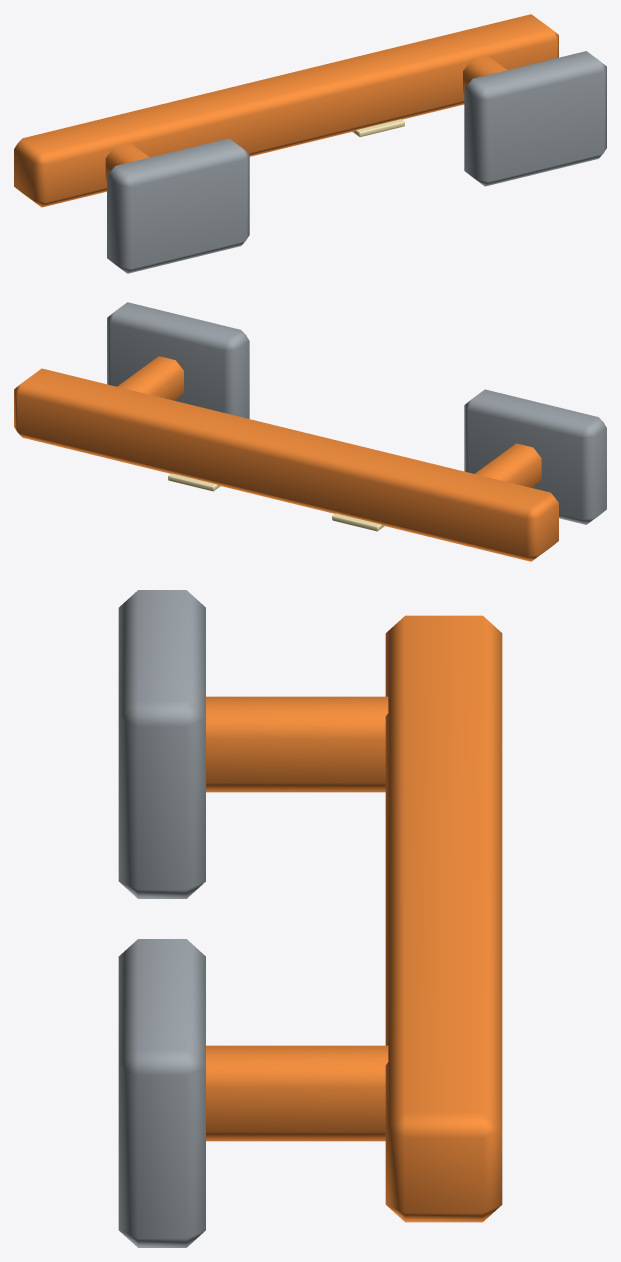
Rendered from RoadBarrier.fbx.
The picture shows the model from 3 angles, top to bottom: view 1: azimuth 30°, elevation 25°; view 2: azimuth 150°, elevation 25°; view 3: azimuth 270°, elevation 25°; orthographic projection. The views are drawn at different scales.
Visible parts, largest first — view 1: Barrier_Beam, Barrier_Foot, Barrier_Foot.001, Barrier_Leg, Barrier_Leg.001, Barrier_Reflective_Stripe.001; view 2: Barrier_Beam, Barrier_Foot, Barrier_Foot.001, Barrier_Leg, Barrier_Leg.001, Barrier_Reflective_Stripe, Barrier_Reflective_Stripe.001; view 3: Barrier_Beam, Barrier_Foot, Barrier_Foot.001, Barrier_Leg, Barrier_Leg.001.
Boxes of the visible parts, x1,y1,x2,y2 form: Barrier_Beam: (14,14,558,207); Barrier_Foot: (107,138,249,273); Barrier_Foot.001: (464,51,606,186); Barrier_Leg: (105,143,149,180); Barrier_Leg.001: (463,55,507,93); Barrier_Reflective_Stripe.001: (352,119,404,137); Barrier_Beam: (14,368,558,561); Barrier_Foot: (464,389,606,524); Barrier_Foot.001: (107,302,249,418); Barrier_Leg: (475,443,541,487); Barrier_Leg.001: (117,356,183,400); Barrier_Reflective_Stripe: (332,513,384,531); Barrier_Reflective_Stripe.001: (168,473,220,491); Barrier_Beam: (385,615,502,1222); Barrier_Foot: (118,590,205,898); Barrier_Foot.001: (118,939,205,1247); Barrier_Leg: (206,696,388,792); Barrier_Leg.001: (206,1045,388,1141).
Size of the model in its own units: 2.5 by 0.45 by 0.79.
